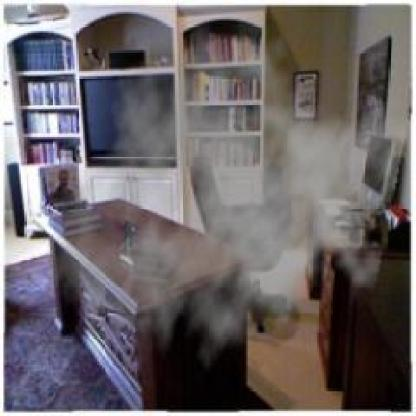Smoke: (44, 19, 410, 387)
